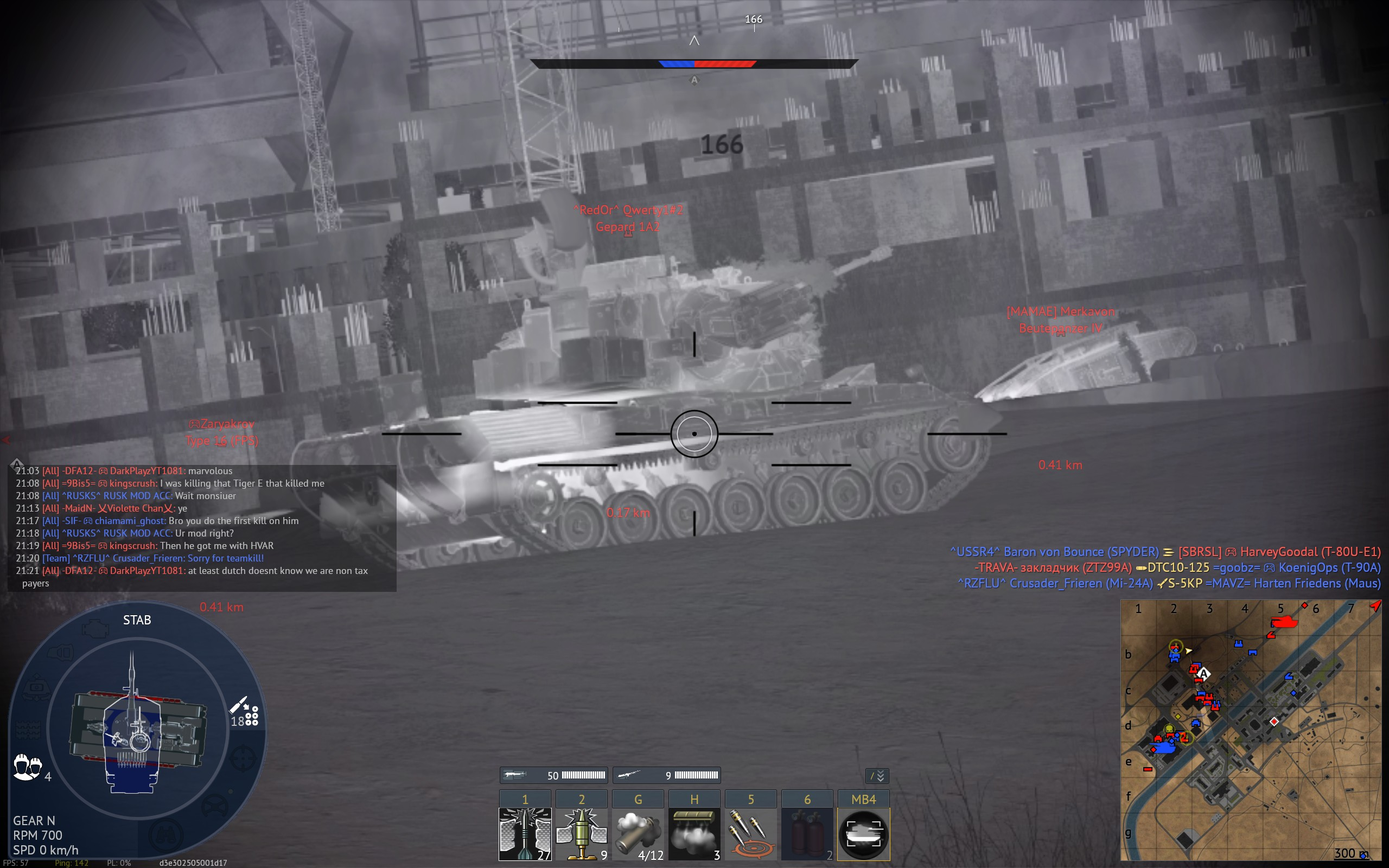spaa_gepard: (285, 186, 1002, 572)
